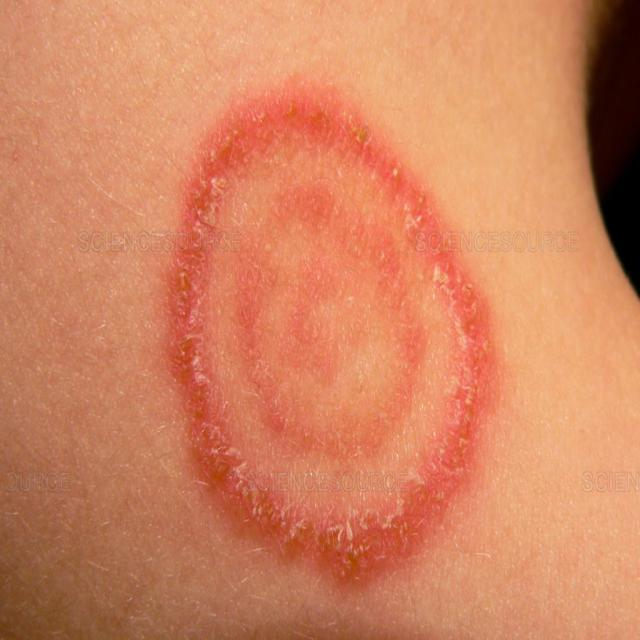tinea: (160, 84, 498, 564)
